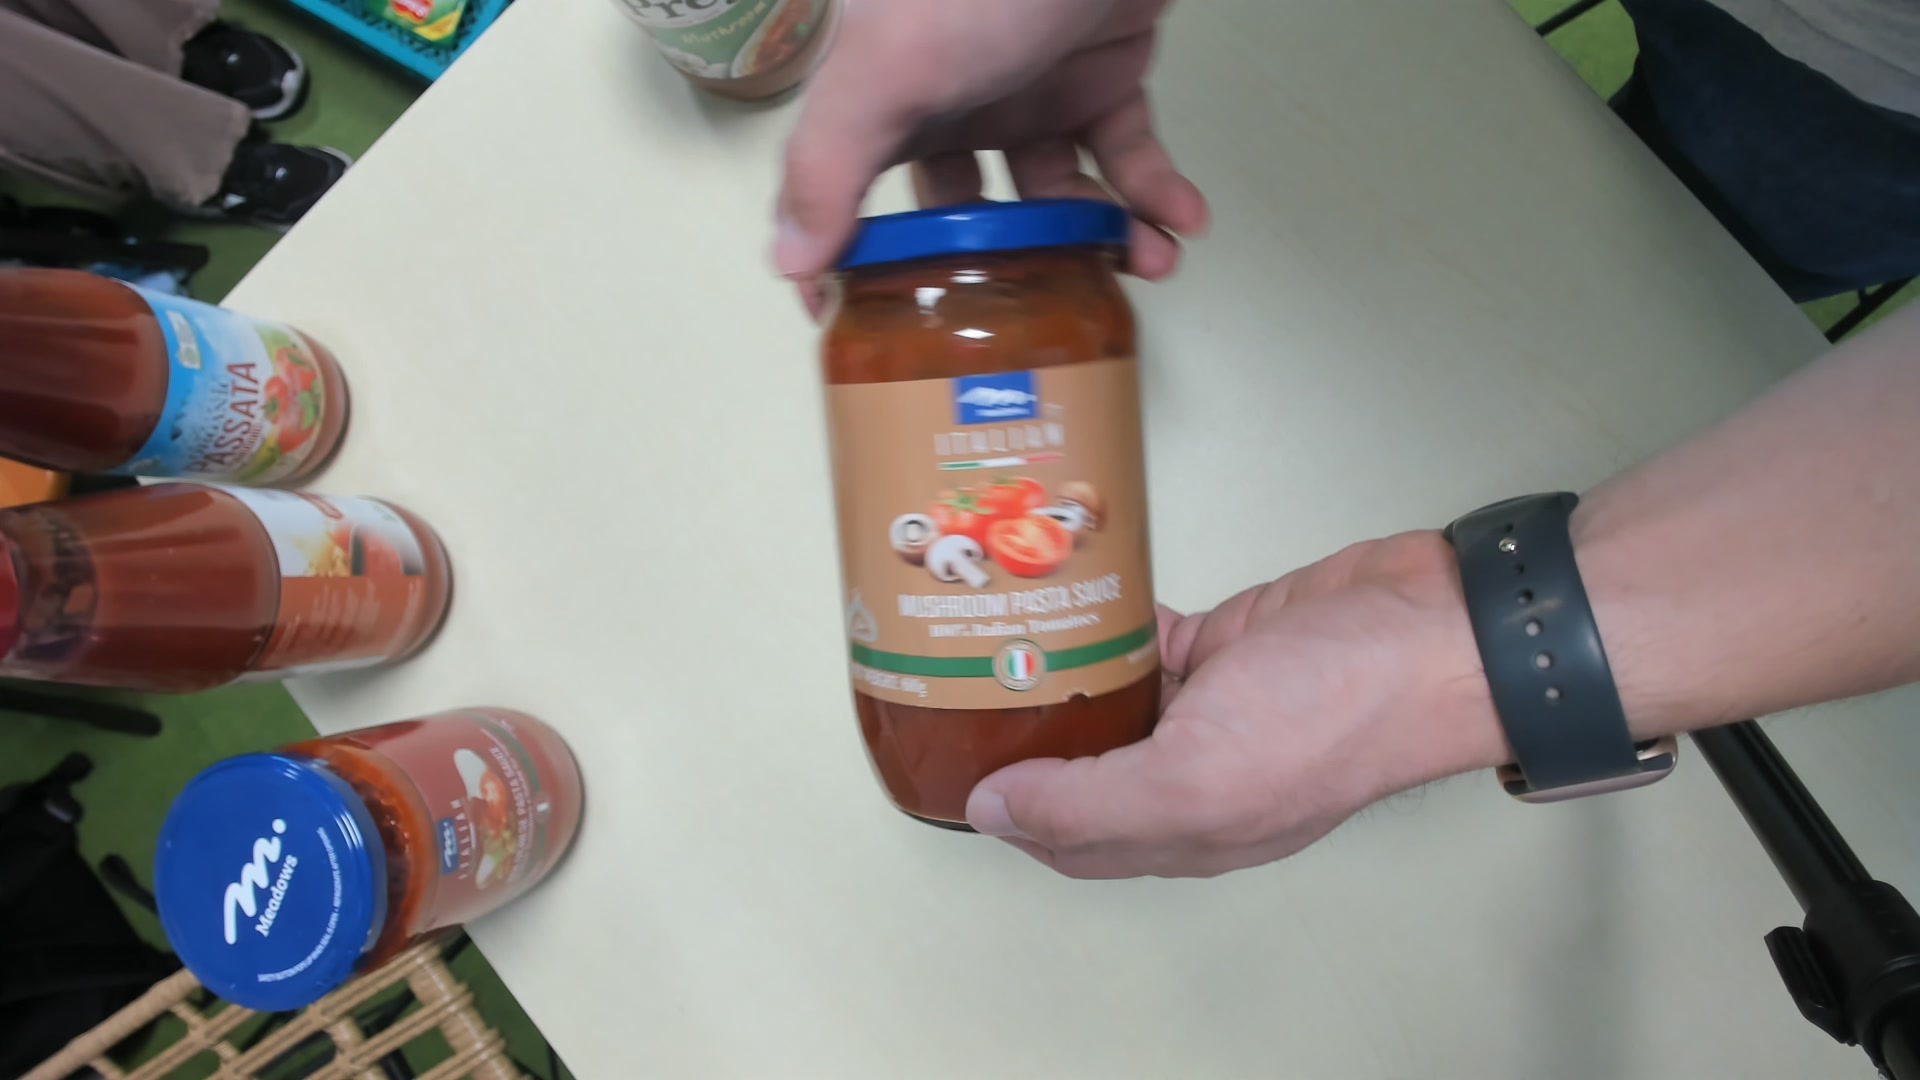PastaSauce_600-699g_Halal_NonHealthy: (818, 212, 1183, 852)
